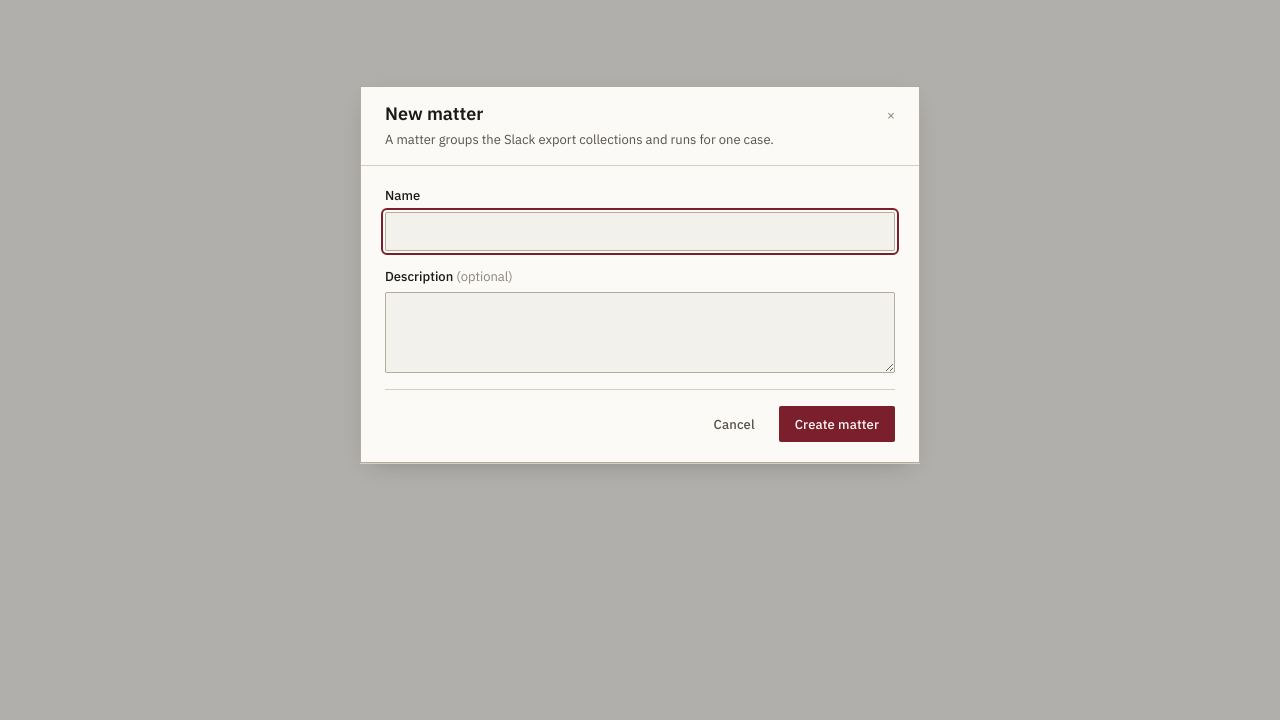
Test: NewMatterDialog › shows_length_error_inline
The image size is (1280, 720).
Type "Ab" into the field labelled "Name" at (640, 231), box [385,212,895,251]
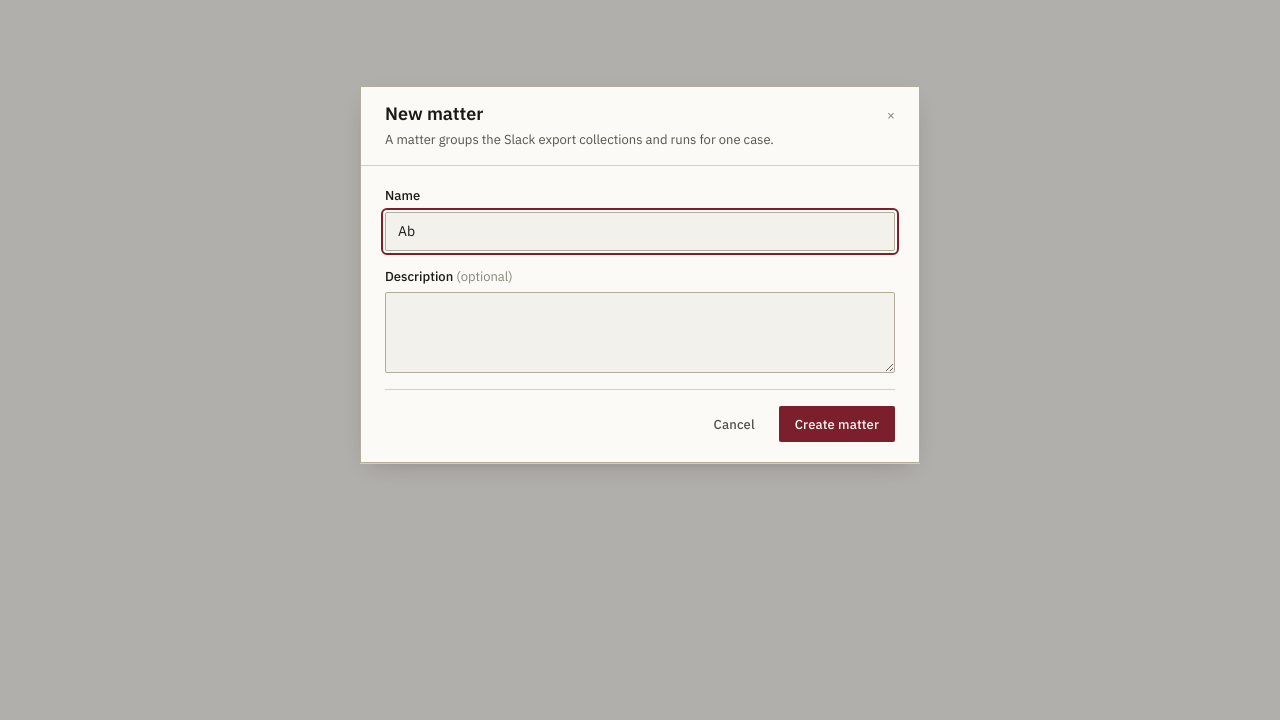
Click the button "Create matter" at (837, 424), box [779,406,895,442]
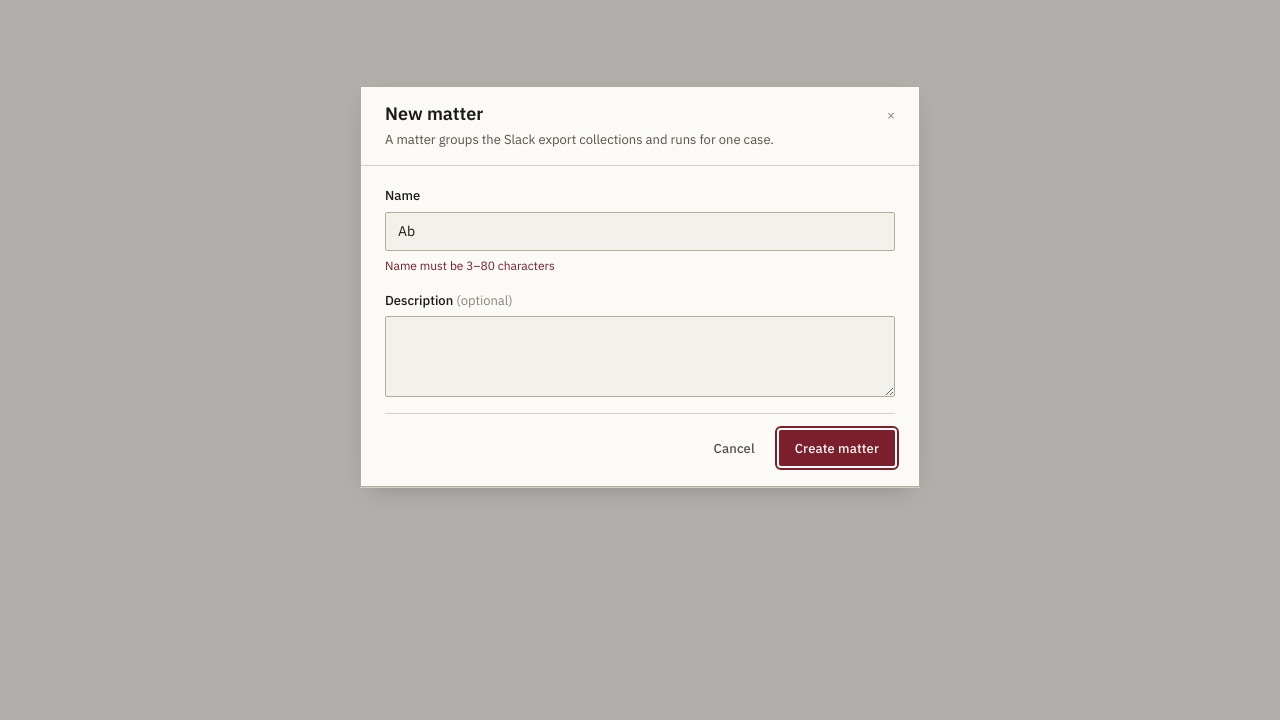
Expected: the dialog is shown, [360,86,920,487]
Expected: the text "Name must be 3–80 characters" is shown, [385,258,555,273]
